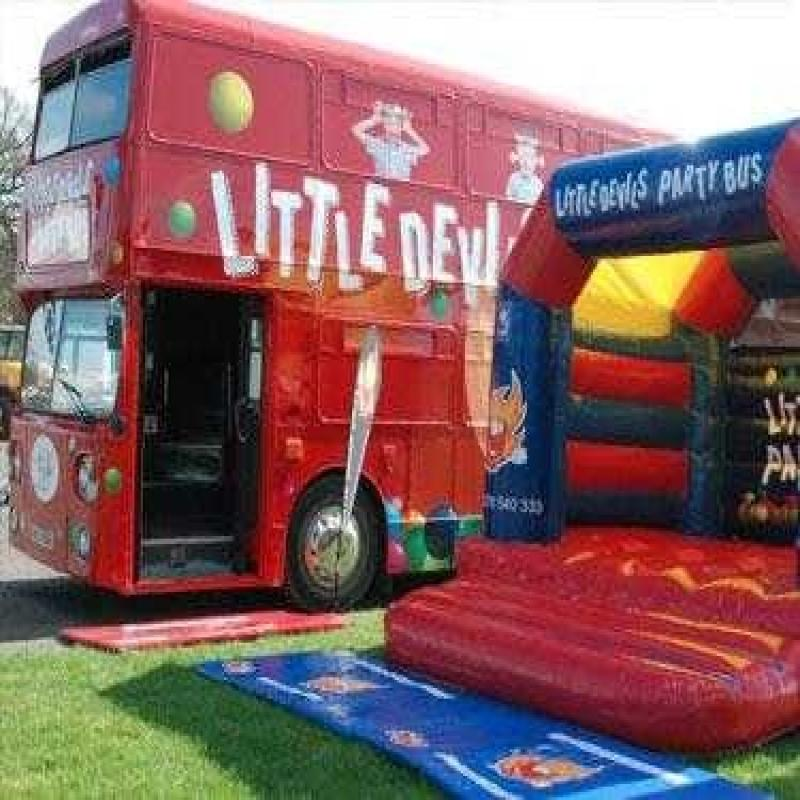bus: (10, 9, 525, 645)
